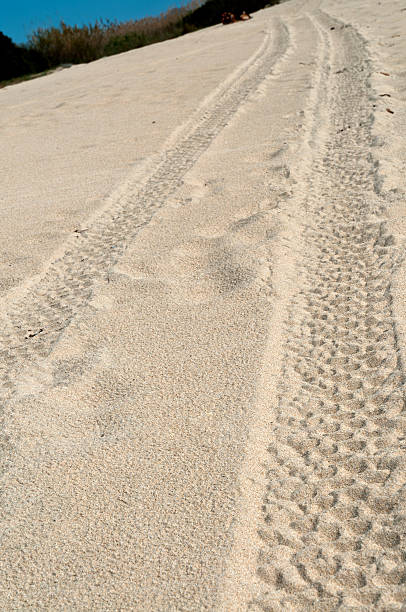vehicle_track: (0, 20, 288, 399), (248, 12, 405, 611)
